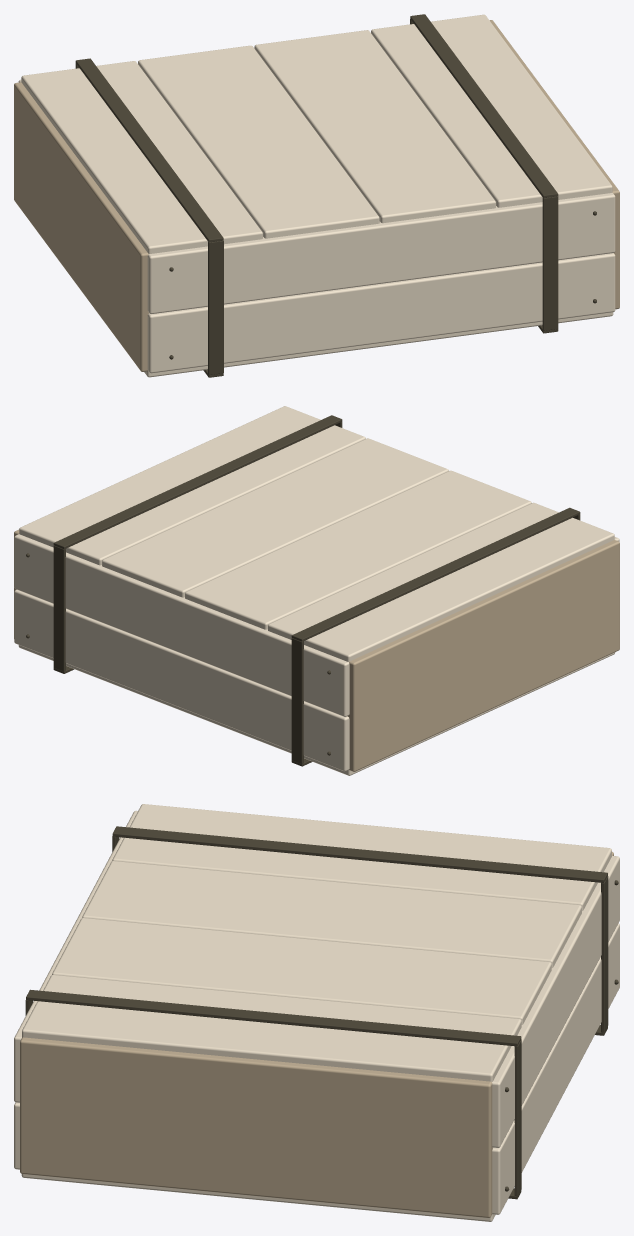
File: wood-case-sealed.glb
3 views of the same model, one above another, from view 1: azimuth 30°, elevation 25°; view 2: azimuth 150°, elevation 25°; view 3: azimuth 270°, elevation 25° (orthographic). The views are drawn at different scales.
Parts seen in each view (by area): view 1: Six-bottle sealed oak case; view 2: Six-bottle sealed oak case; view 3: Six-bottle sealed oak case.
Boxes of the visible parts, x1,y1,x2,y2 form: Six-bottle sealed oak case: (14,14,619,377); Six-bottle sealed oak case: (14,406,619,775); Six-bottle sealed oak case: (14,804,619,1221).
Bounding box in the file's own units: 3.12 × 0.818 × 2.87.
